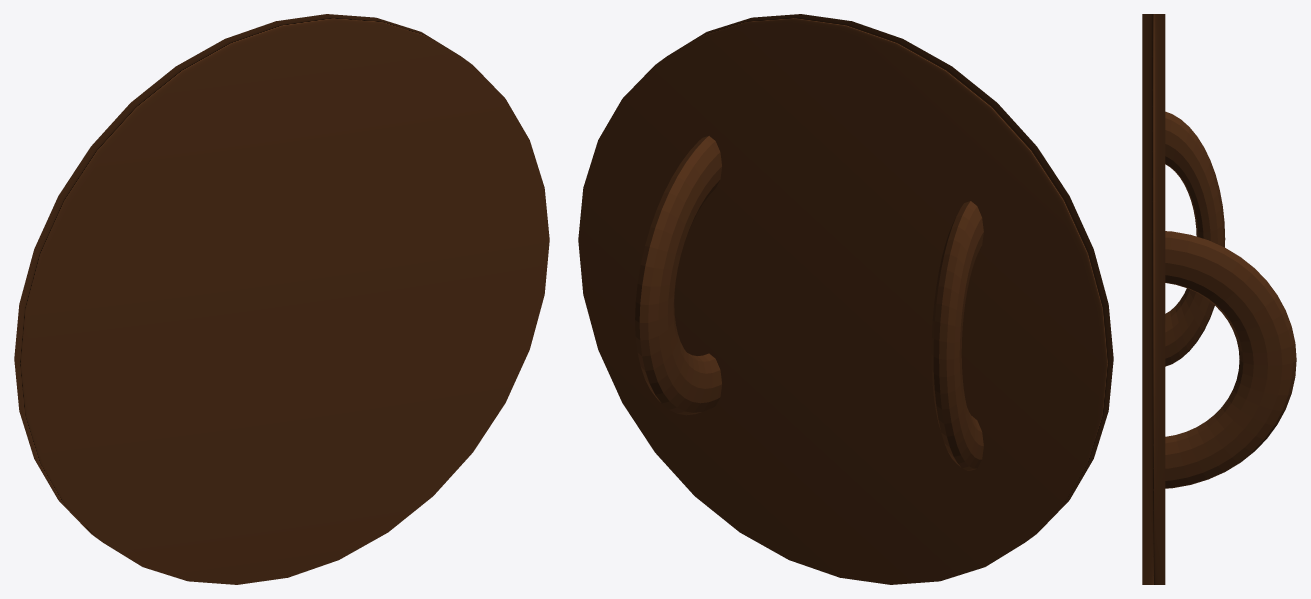
File: shield.fbx
3 views of the same model, side by side, from view 1: azimuth 30°, elevation 25°; view 2: azimuth 150°, elevation 25°; view 3: azimuth 270°, elevation 25° (orthographic). The views are drawn at different scales.
Visible parts, largest first — view 1: ShieldFace; view 2: ShieldFace, Strap, Handle; view 3: Strap, ShieldFace, Handle.
Part boxes in pixels (bbox=[...]): ShieldFace: bbox=[14, 14, 549, 584]; ShieldFace: bbox=[578, 14, 1113, 584]; Strap: bbox=[635, 136, 721, 415]; Handle: bbox=[931, 201, 983, 470]; Strap: bbox=[1165, 231, 1296, 488]; ShieldFace: bbox=[1142, 14, 1165, 584]; Handle: bbox=[1165, 111, 1225, 366].
Bounding box in the file's own units: 1000 × 1000 × 270.
